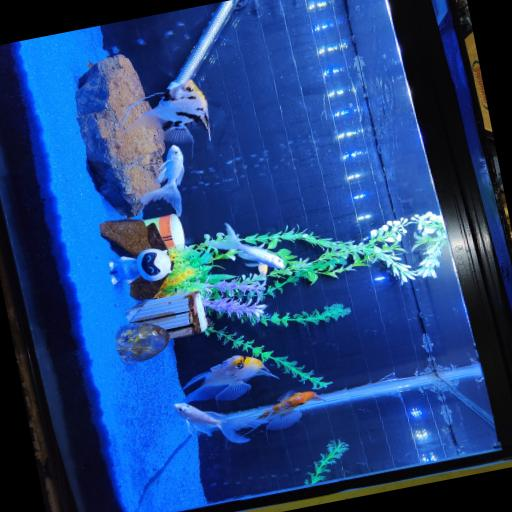Fish: (122, 79, 209, 142), (182, 355, 276, 402), (173, 402, 266, 442), (206, 222, 283, 268), (139, 145, 183, 215), (258, 391, 322, 429), (257, 262, 267, 275)
